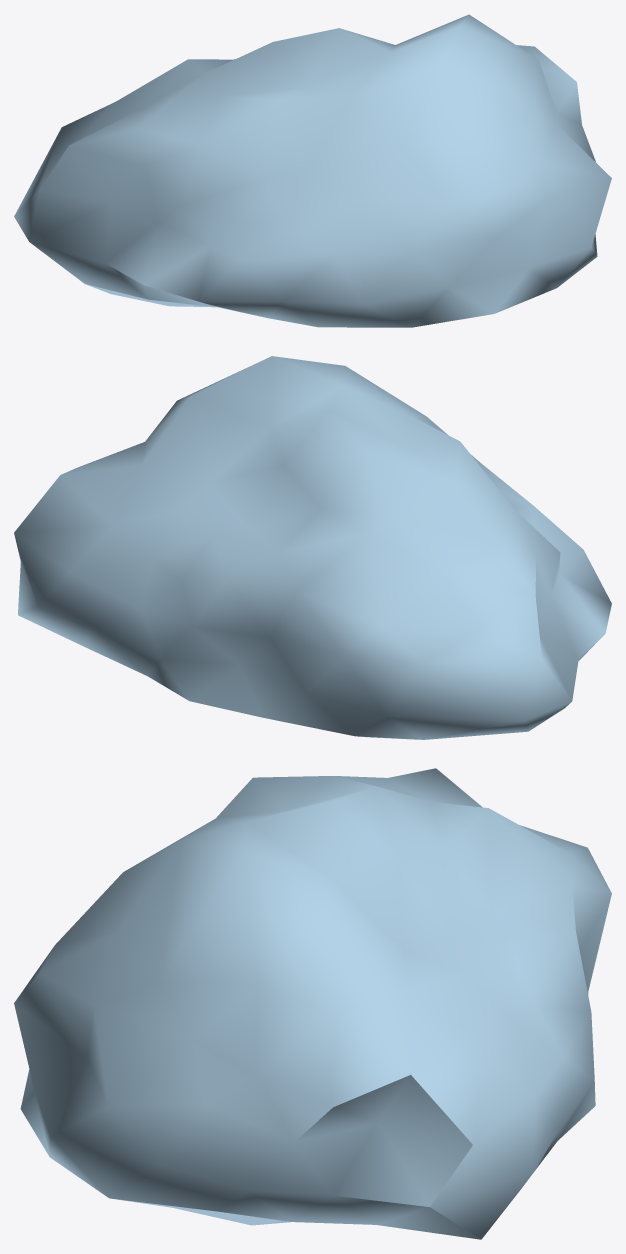
File: ice_rock.glb
3 renders of one model, top to bottom at view 1: azimuth 30°, elevation 25°; view 2: azimuth 150°, elevation 25°; view 3: azimuth 270°, elevation 25°, orthographic. The views are drawn at different scales.
Visible parts, largest first — view 1: ice_rock; view 2: ice_rock; view 3: ice_rock.
Boxes of the visible parts, x1,y1,x2,y2 form: ice_rock: [14, 14, 611, 327]; ice_rock: [14, 356, 611, 739]; ice_rock: [14, 768, 611, 1239].
Size of the model in its own units: 4.09 by 1.61 by 3.01.
